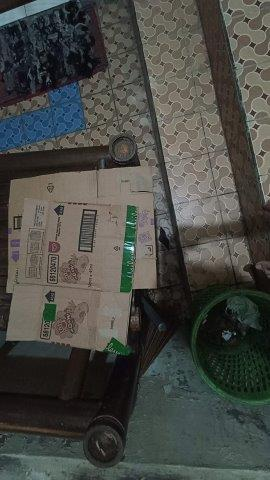kardus: (7, 168, 155, 350)
